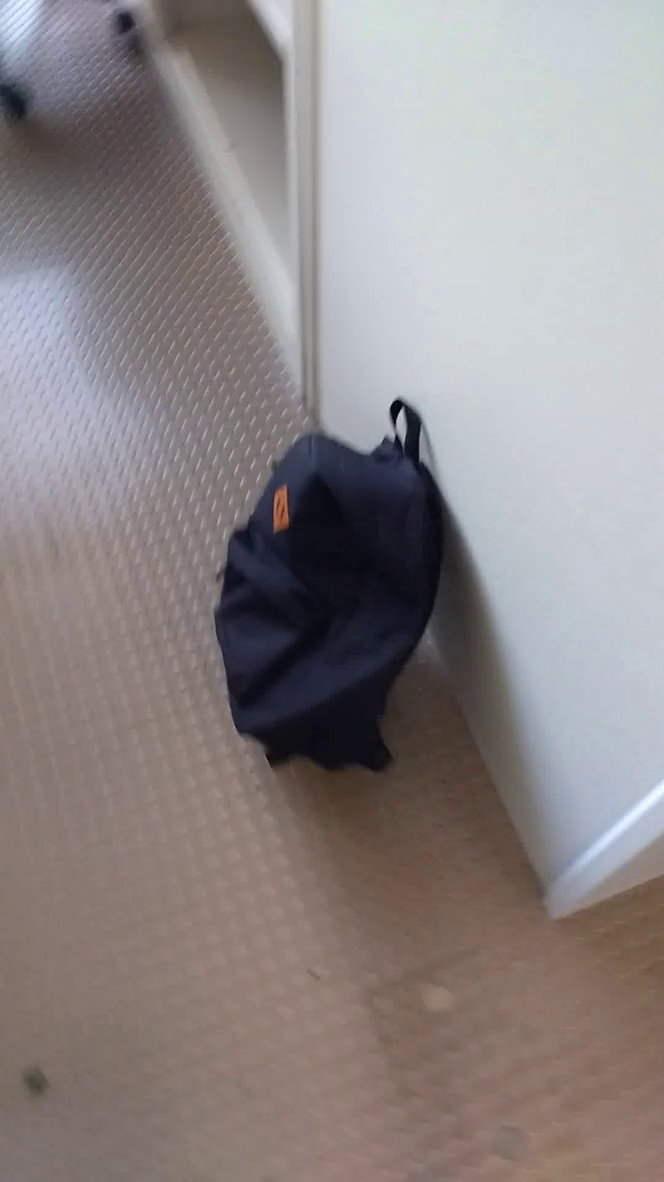bag: (204, 379, 470, 797)
